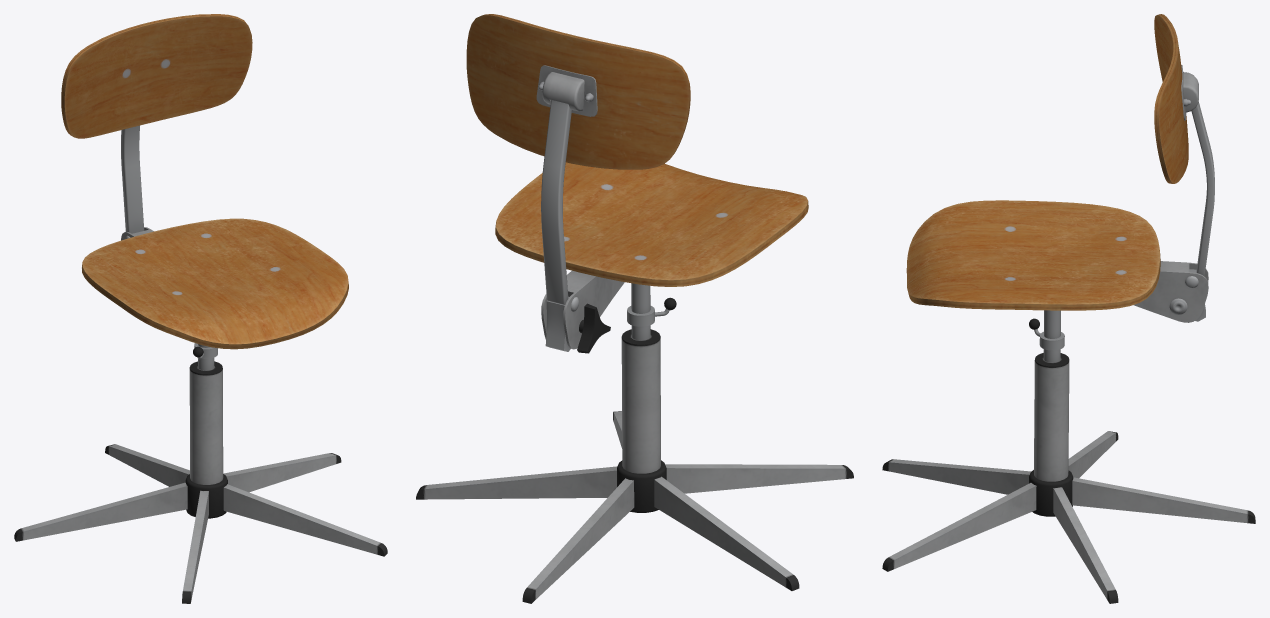
File: chair.glb
3 views of the same model, side by side, from view 1: azimuth 30°, elevation 25°; view 2: azimuth 150°, elevation 25°; view 3: azimuth 270°, elevation 25° (orthographic). The views are drawn at different scales.
Parts seen in each view (by area): view 1: computerchair_01_computerchair_material_0; view 2: computerchair_01_computerchair_material_0; view 3: computerchair_01_computerchair_material_0.
Part boxes in pixels (x1=…): computerchair_01_computerchair_material_0: x1=14, y1=14, x2=387, y2=603; computerchair_01_computerchair_material_0: x1=416, y1=14, x2=853, y2=603; computerchair_01_computerchair_material_0: x1=882, y1=14, x2=1255, y2=603.
Size of the model in its own units: 0.9246 by 1.24 by 0.8793.
1 material, 1 textured.
